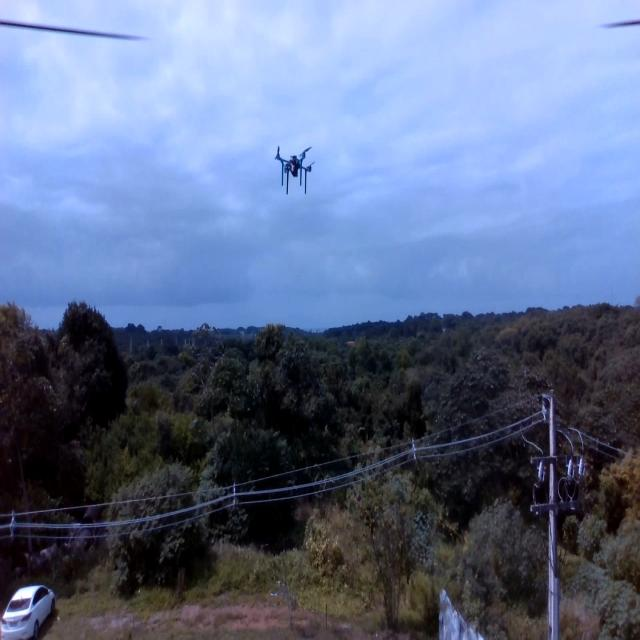-uav-: (269, 128, 323, 205)
